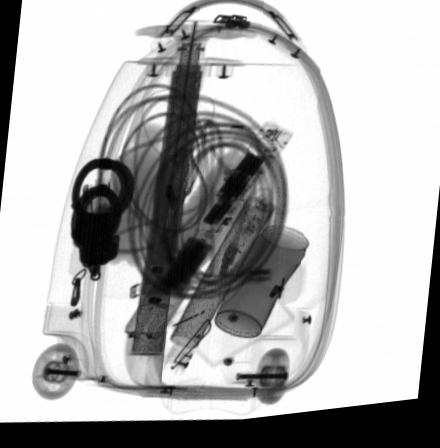Baton: (155, 127, 293, 298)
HandCuffs: (70, 159, 136, 283)
